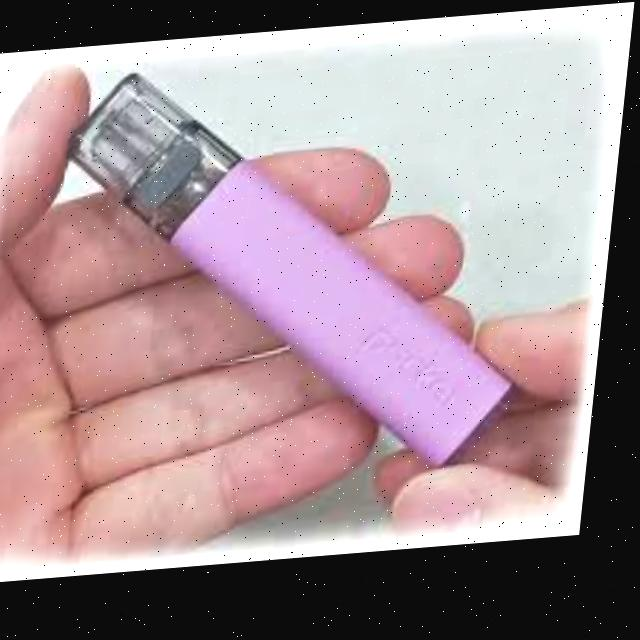vape: (40, 46, 562, 502)
